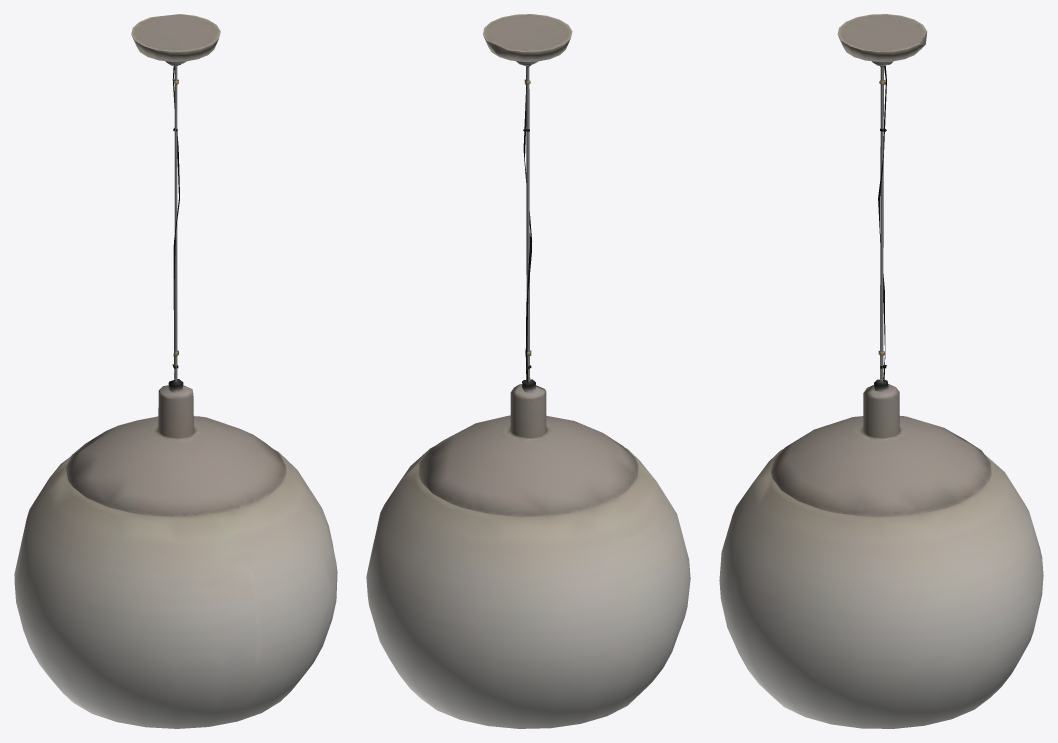
The model's file is modern_ceiling_lamp_01.glb.
3 views of the same model, side by side, from view 1: azimuth 30°, elevation 25°; view 2: azimuth 150°, elevation 25°; view 3: azimuth 270°, elevation 25° (orthographic).
Parts seen in each view (by area): view 1: modern_ceiling_lamp_01; view 2: modern_ceiling_lamp_01; view 3: modern_ceiling_lamp_01.
Boxes of the visible parts, x1,y1,x2,y2 form: modern_ceiling_lamp_01: (14, 14, 337, 728); modern_ceiling_lamp_01: (366, 14, 690, 728); modern_ceiling_lamp_01: (719, 14, 1043, 728).
Size of the model in its own units: 0.4316 by 0.9512 by 0.4316.
2 materials, 2 textured.
